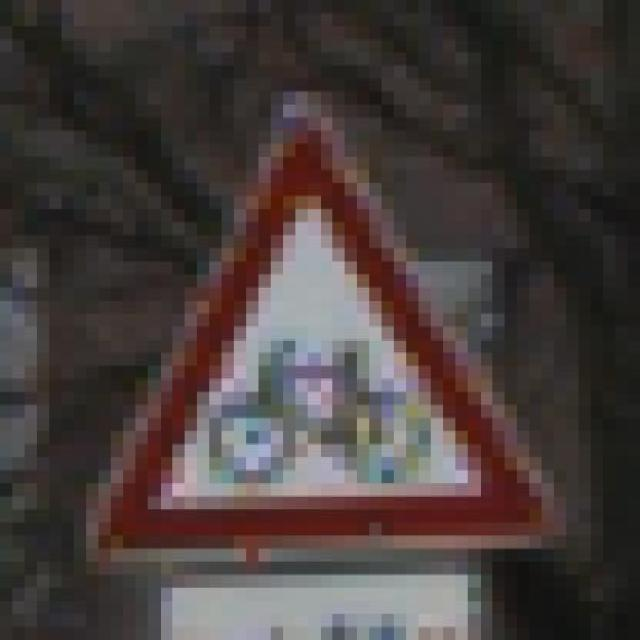CYCLE ROUTE AHEAD WARNING: (87, 63, 555, 572)
